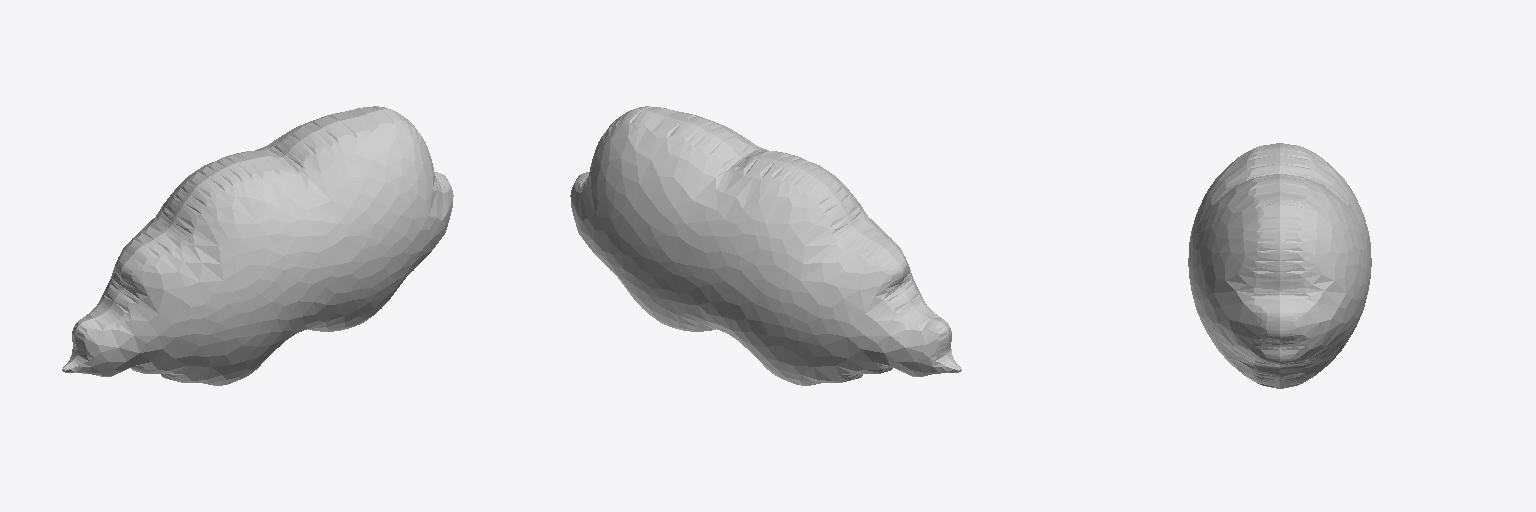
File: Cloud2Test.obj
3 views of the same model, side by side, from view 1: azimuth 30°, elevation 25°; view 2: azimuth 150°, elevation 25°; view 3: azimuth 270°, elevation 25° (orthographic).
Parts seen in each view (by area): view 1: mm_frame; view 2: mm_frame; view 3: mm_frame.
Boxes of the visible parts, <box> form: mm_frame: <box>62,106,453,385</box>; mm_frame: <box>570,106,961,385</box>; mm_frame: <box>1188,143,1371,388</box>.
Size of the model in its own units: 3.21 by 1.83 by 1.31.